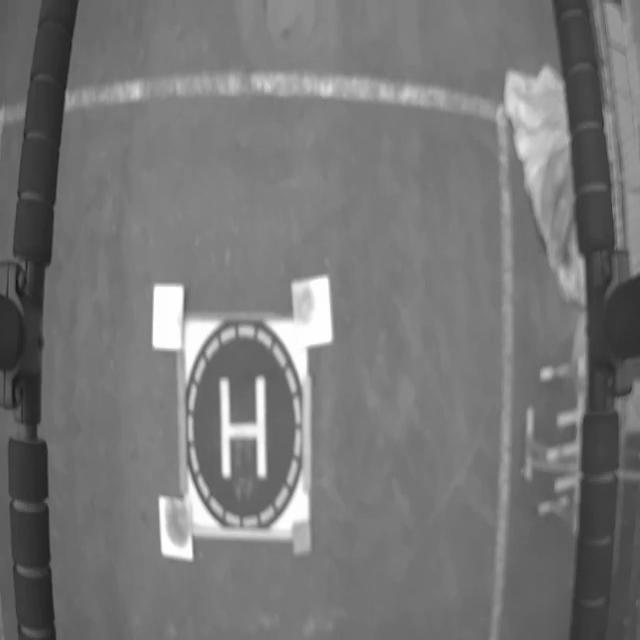Helipad: (220, 375, 267, 480)
